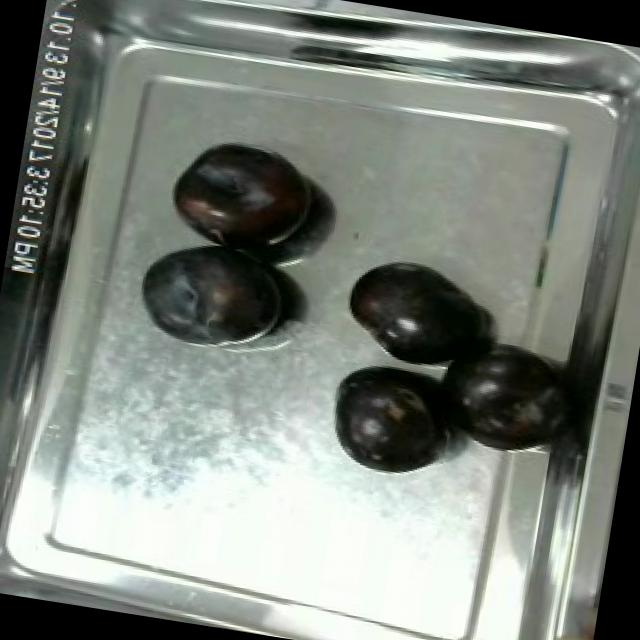Fruit: (127, 227, 303, 359), (164, 132, 326, 264), (335, 248, 486, 372), (322, 354, 462, 482), (425, 335, 561, 455)
